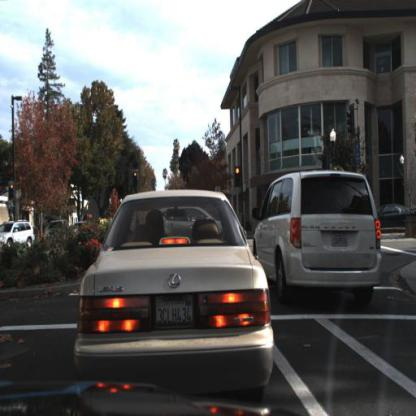car: (77, 186, 270, 386), (253, 168, 383, 304), (374, 201, 414, 236), (1, 220, 37, 248), (1, 220, 36, 248)
trafficLight-Red: (234, 166, 242, 189), (9, 181, 16, 201), (132, 170, 139, 189)
